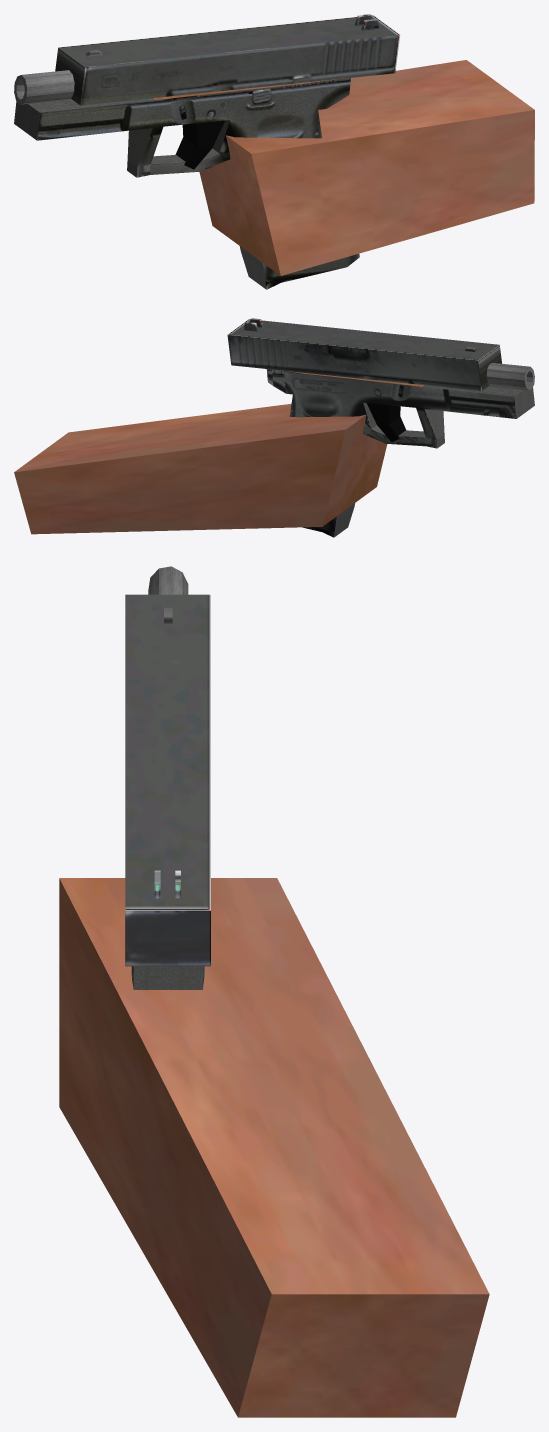
The model's file is pistol_000010.obj.
3 renders of one model, top to bottom at view 1: azimuth 30°, elevation 25°; view 2: azimuth 150°, elevation 25°; view 3: azimuth 270°, elevation 25°, orthographic. The views are drawn at different scales.
Visible parts, largest first — view 1: Cube, Cube.001, Cube.003; view 2: Cube, Cube.001, Cube.003; view 3: Cube, Cube.001.
Part boxes in pixels (x1=…): Cube: x1=14, y1=60, x2=534, y2=289; Cube.001: x1=55, y1=14, x2=400, y2=105; Cube.003: x1=175, y1=120, x2=224, y2=169; Cube: x1=14, y1=363, x2=534, y2=537; Cube.001: x1=227, y1=318, x2=501, y2=390; Cube.003: x1=366, y1=403, x2=405, y2=441; Cube: x1=59, y1=566, x2=489, y2=1417; Cube.001: x1=125, y1=594, x2=210, y2=966.
Bounding box in the file's own units: 1.69 × 0.8275 × 0.7214.
